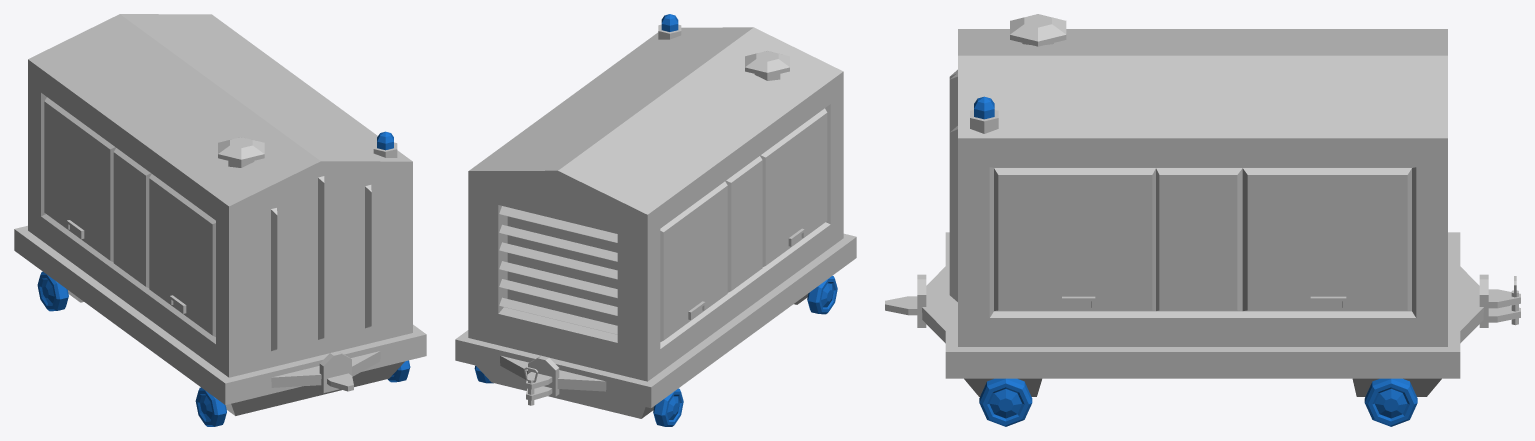
File: SM_trailer.fbx
3 renders of one model, left to right at view 1: azimuth 30°, elevation 25°; view 2: azimuth 150°, elevation 25°; view 3: azimuth 270°, elevation 25°, orthographic. The views are drawn at different scales.
Visible parts, largest first — view 1: Cube_2, Cylinder_4, Cylinder_5; view 2: Cube_2, Cylinder_5, Cylinder_4; view 3: Cube_2, Cylinder_5, Cylinder_4.
Part boxes in pixels (x1=…): Cube_2: x1=14, y1=14, x2=426, y2=415; Cylinder_4: x1=195, y1=360, x2=410, y2=426; Cylinder_5: x1=37, y1=271, x2=68, y2=311; Cube_2: x1=455, y1=14, x2=856, y2=418; Cylinder_5: x1=474, y1=365, x2=683, y2=426; Cylinder_4: x1=807, y1=276, x2=837, y2=314; Cube_2: x1=885, y1=14, x2=1520, y2=396; Cylinder_5: x1=1364, y1=378, x2=1417, y2=426; Cylinder_4: x1=979, y1=378, x2=1032, y2=426.
Size of the model in its own units: 1609 by 2007 by 3609.
